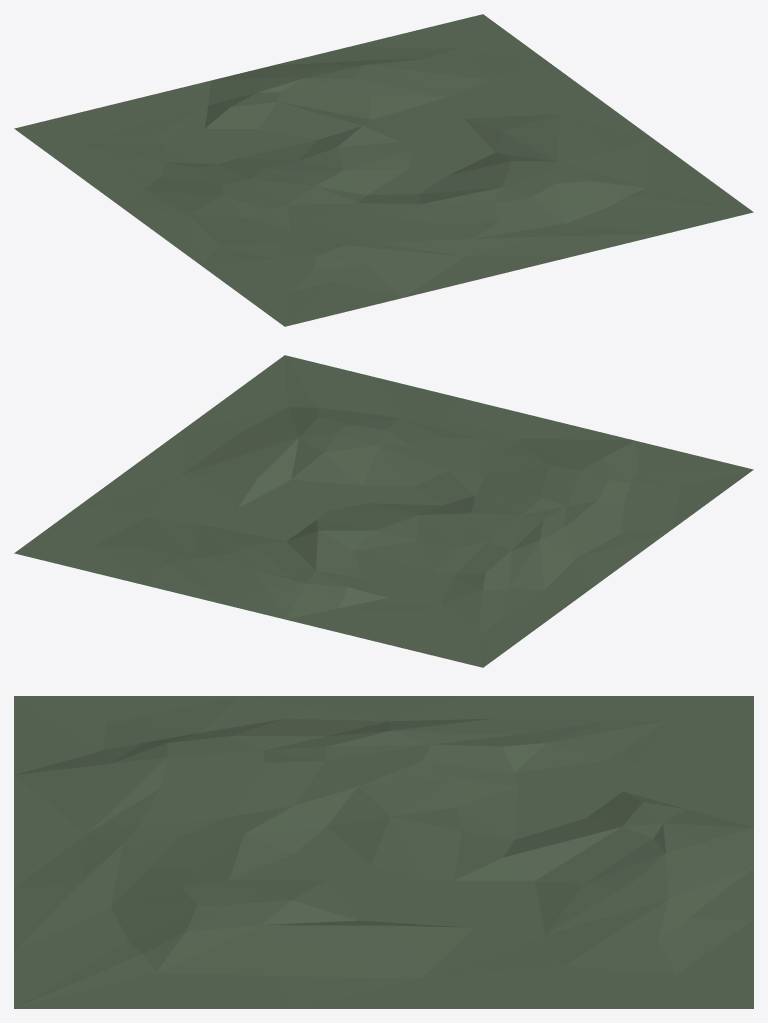
Rendered from SM_Generic_Ground_02.fbx.
3 renders of one model, top to bottom at view 1: azimuth 30°, elevation 25°; view 2: azimuth 150°, elevation 25°; view 3: azimuth 270°, elevation 25°, orthographic. The views are drawn at different scales.
Parts seen in each view (by area): view 1: SM_Generic_Ground_02; view 2: SM_Generic_Ground_02; view 3: SM_Generic_Ground_02.
Boxes of the visible parts, left/top/right/bottom form: SM_Generic_Ground_02: left=14, top=14, right=753, bottom=326; SM_Generic_Ground_02: left=14, top=355, right=753, bottom=667; SM_Generic_Ground_02: left=14, top=696, right=753, bottom=1008.
Bounding box in the file's own units: 500 × 12.84 × 500.
